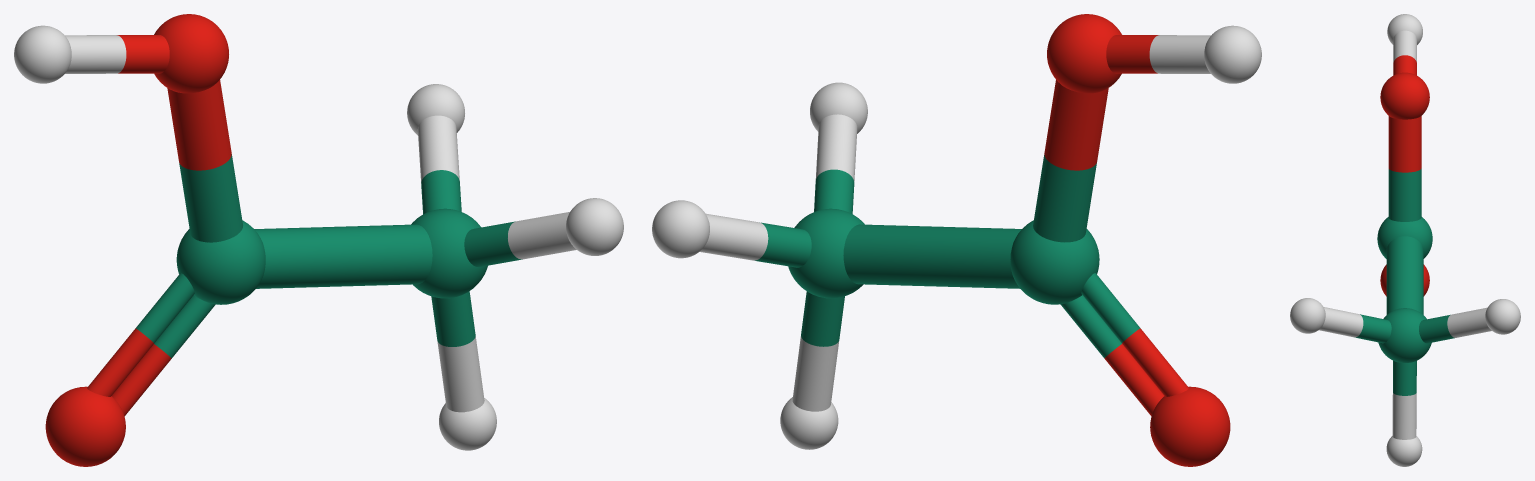
Rendered from AceticAcid.glb.
3 renders of one model, left to right at view 1: azimuth 30°, elevation 25°; view 2: azimuth 150°, elevation 25°; view 3: azimuth 270°, elevation 25°, orthographic. The views are drawn at different scales.
Size of the model in its own units: 3.43 by 3.27 by 2.13.
